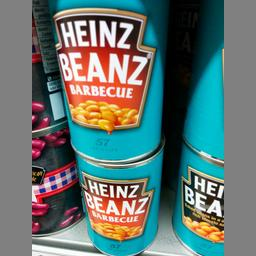beans: (46, 0, 169, 159), (66, 151, 168, 255)
